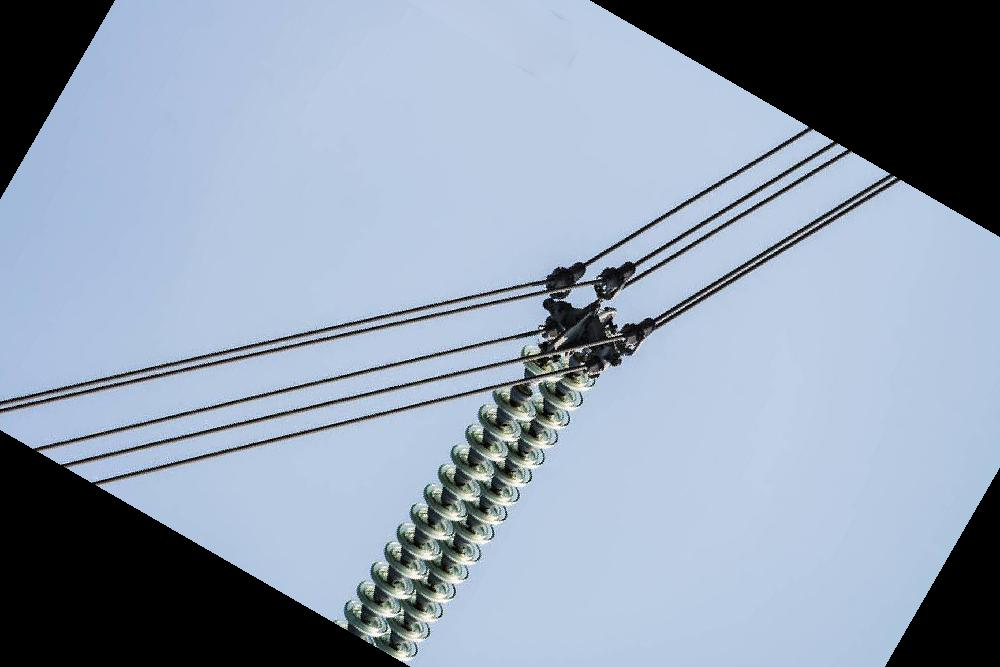insulator: (333, 339, 603, 665)
insulator_stringdrop: (489, 340, 566, 425)
